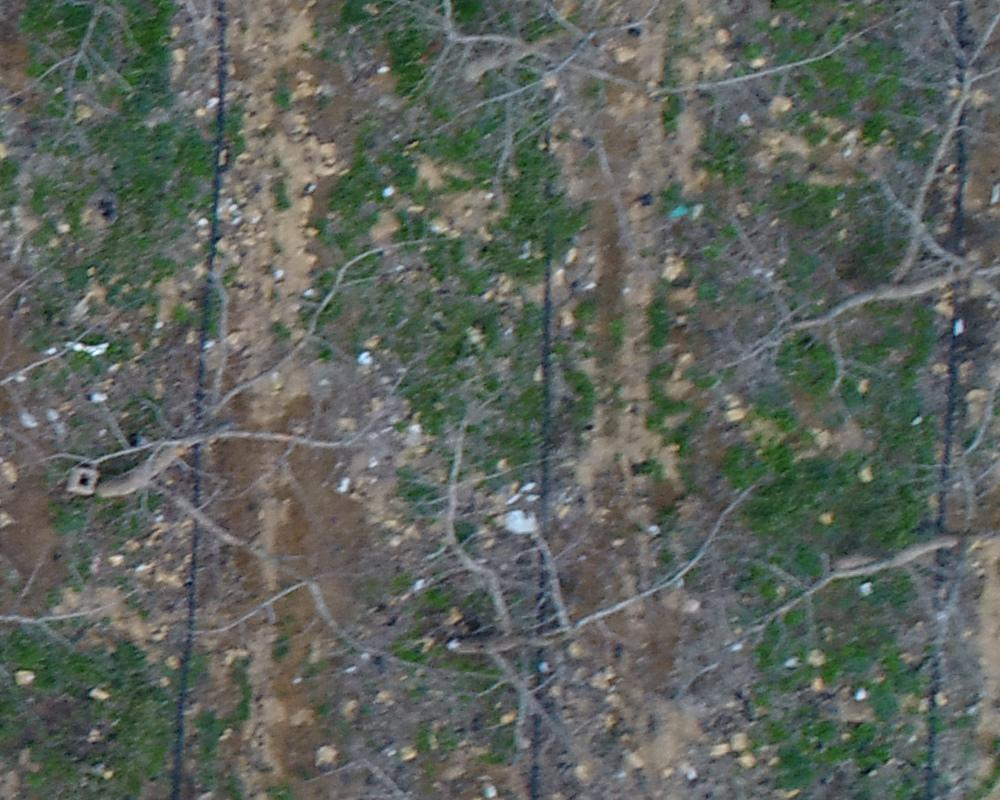apple: (280, 377, 755, 746), (31, 234, 441, 590), (352, 10, 883, 246), (723, 10, 990, 431), (739, 412, 990, 743)
